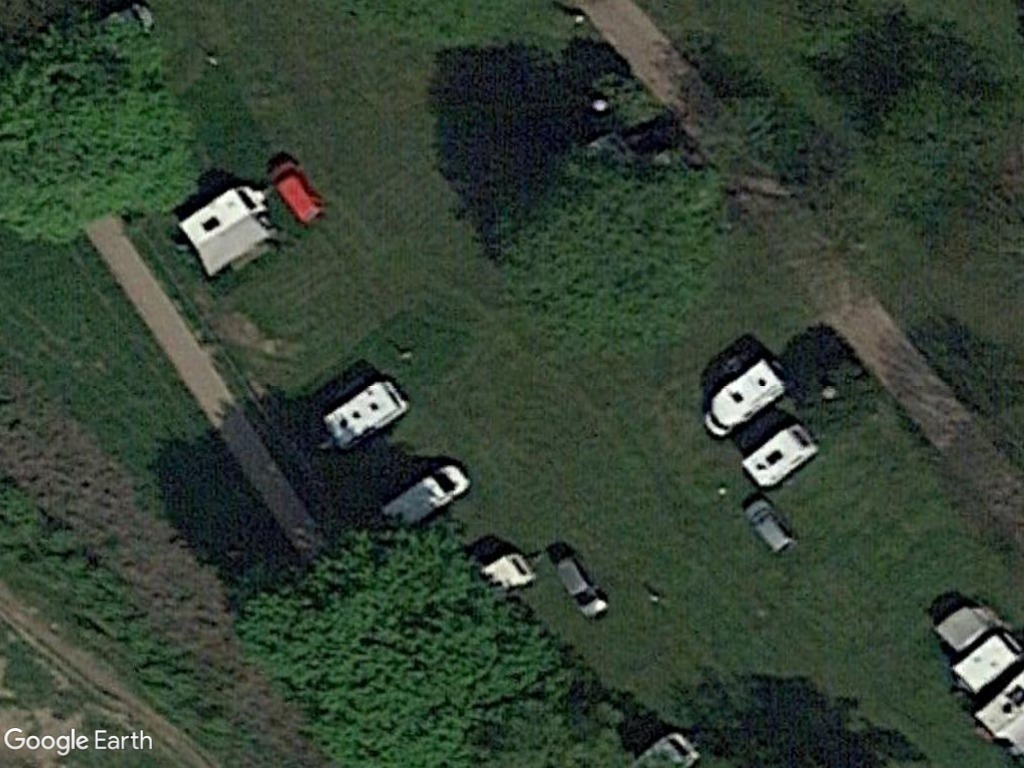car: (544, 542, 614, 622), (736, 490, 808, 567)
van: (699, 355, 789, 440), (378, 459, 473, 536), (266, 156, 331, 230)
